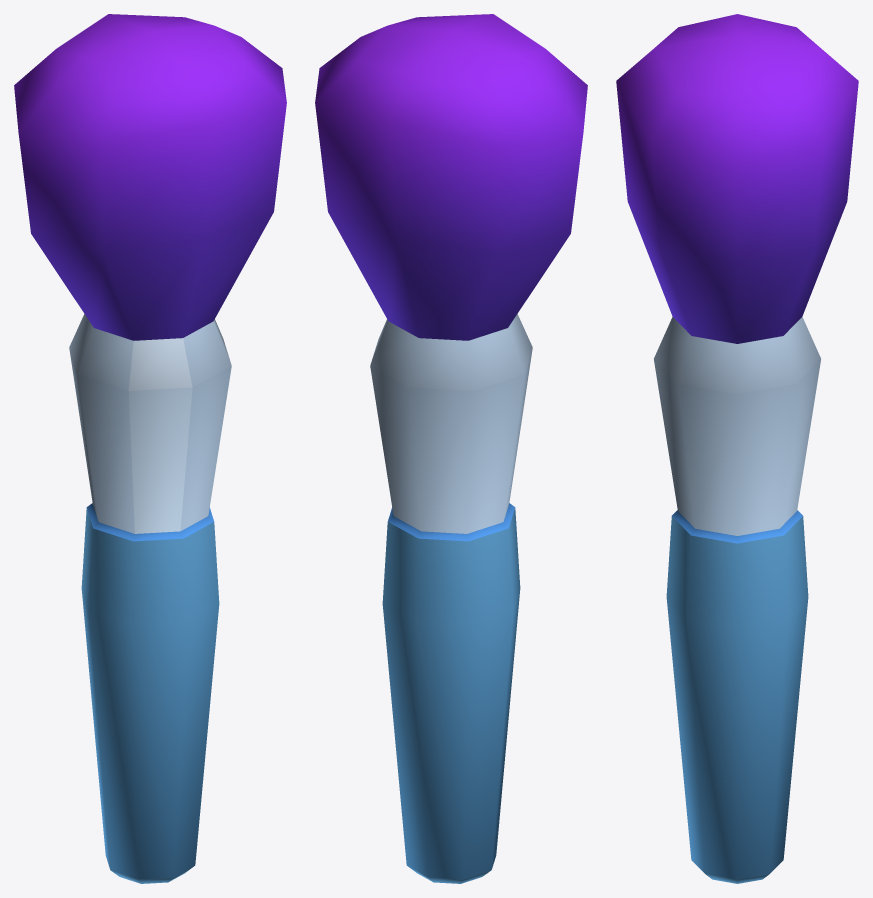
File: MakeupBrushes_L.fbx
The picture shows the model from 3 angles, left to right: view 1: azimuth 30°, elevation 25°; view 2: azimuth 150°, elevation 25°; view 3: azimuth 270°, elevation 25°; orthographic projection.
Parts seen in each view (by area): view 1: MakeupBrushes_L; view 2: MakeupBrushes_L; view 3: MakeupBrushes_L.
Boxes of the visible parts, left/top/right/bottom form: MakeupBrushes_L: left=14, top=14, right=286, bottom=883; MakeupBrushes_L: left=315, top=14, right=587, bottom=883; MakeupBrushes_L: left=616, top=14, right=858, bottom=883.
Bounding box in the file's own units: 1.33 × 4.02 × 1.06.
